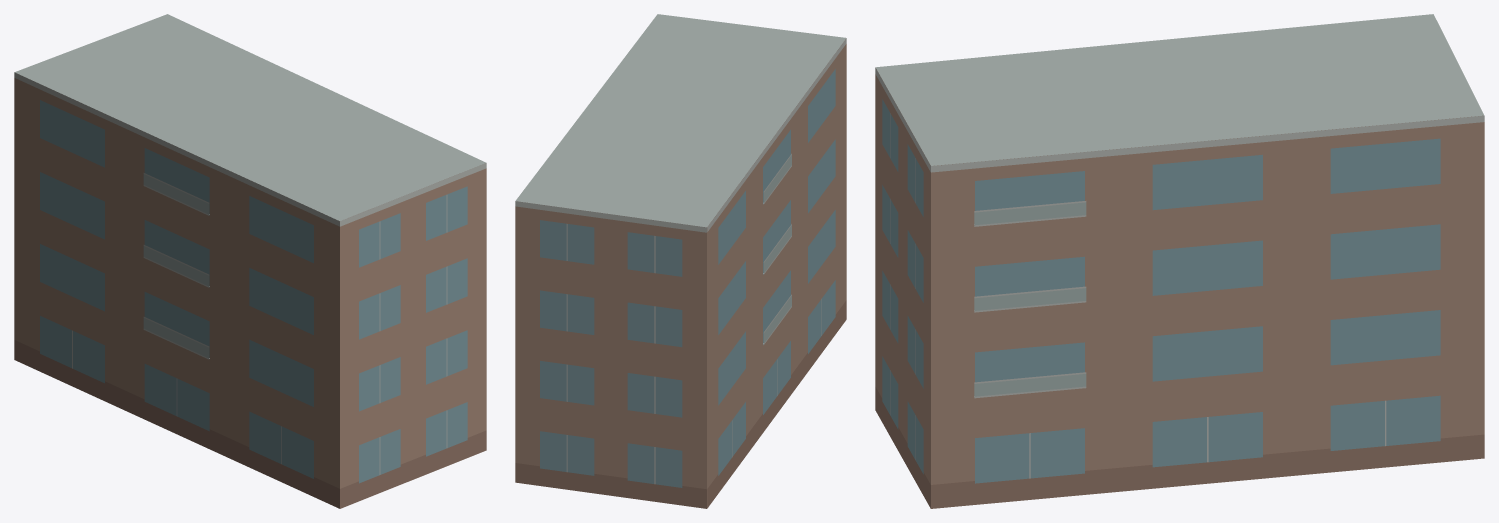
File: survey-upis-32913099.glb
3 renders of one model, left to right at view 1: azimuth 30°, elevation 25°; view 2: azimuth 150°, elevation 25°; view 3: azimuth 270°, elevation 25°, orthographic. The views are drawn at different scales.
Visible parts, largest first — view 1: survey-upis-32913099.tmp; view 2: survey-upis-32913099.tmp; view 3: survey-upis-32913099.tmp.
Part boxes in pixels (x1,y1,x2,y2): survey-upis-32913099.tmp: [14, 14, 486, 508]; survey-upis-32913099.tmp: [515, 14, 846, 508]; survey-upis-32913099.tmp: [875, 14, 1484, 508].
Bounding box in the file's own units: 12.23 × 12.85 × 20.7.
